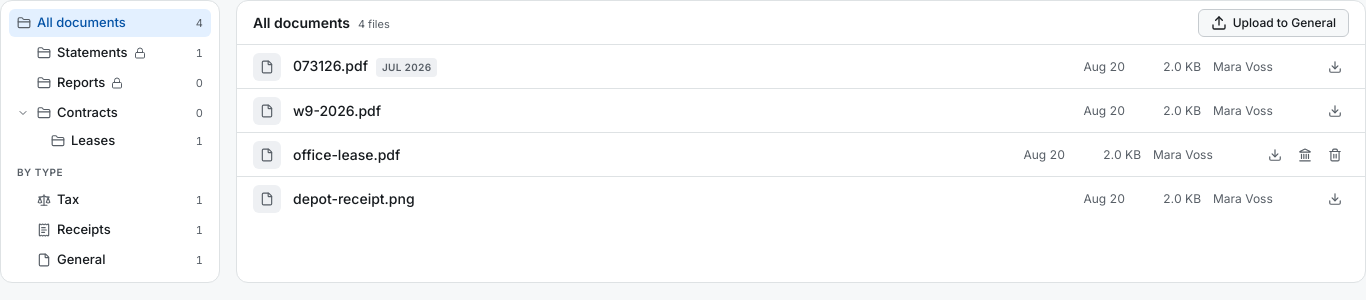
Test: DocumentsPanel tree and grouping › filters the file list when a type group is selected
Click the text "Receipts". click: click(84, 230)
box: [57,220,111,240]
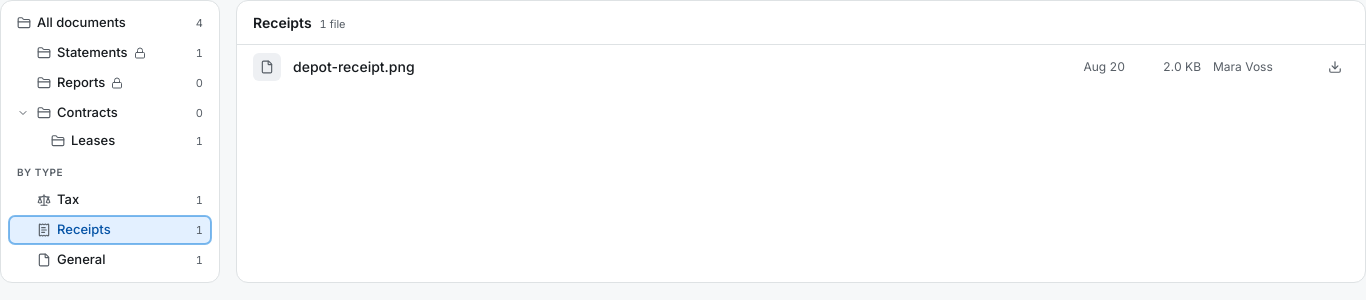
Expected: the list item with test id "document-row" shows "depot-receipt.png", [293,58,415,75]
Now the number of list items with test id "document-row" is 1, box [237,45,1365,89]
